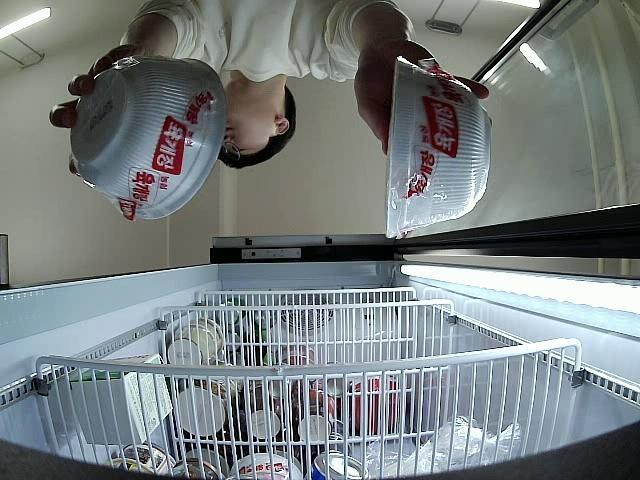09_yukGaeJang: (70, 58, 228, 222), (384, 54, 493, 237)
